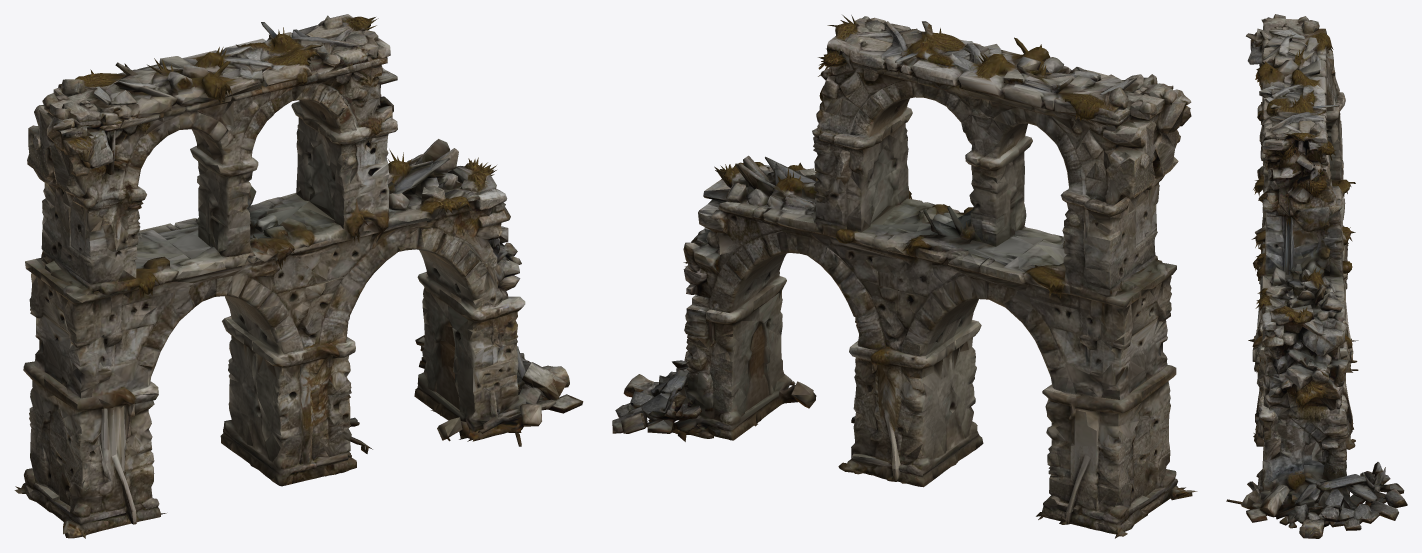
File: aqueduct-seg.glb
The picture shows the model from 3 angles, left to right: view 1: azimuth 30°, elevation 25°; view 2: azimuth 150°, elevation 25°; view 3: azimuth 270°, elevation 25°; orthographic projection. The views are drawn at different scales.
Visible parts, largest first — view 1: tripo_node_5f703562; view 2: tripo_node_5f703562; view 3: tripo_node_5f703562.
Boxes of the visible parts, <box> form: tripo_node_5f703562: <box>14,14,583,538</box>; tripo_node_5f703562: <box>612,15,1197,538</box>; tripo_node_5f703562: <box>1226,14,1407,538</box>.
Size of the model in its own units: 0.9806 by 0.7502 by 0.3662.
Materials: 1 (1 with a texture image).
